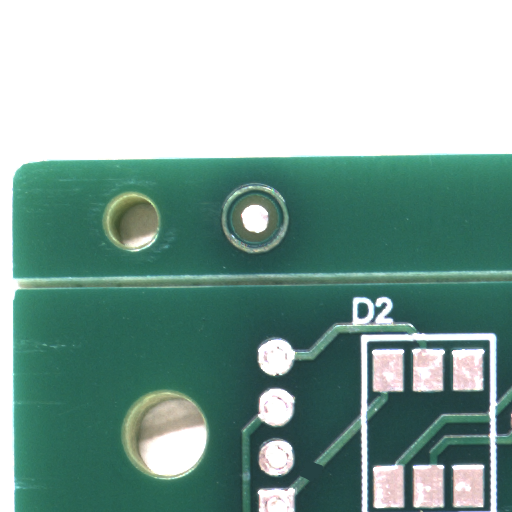Open_circuit: (312, 472, 337, 494)
